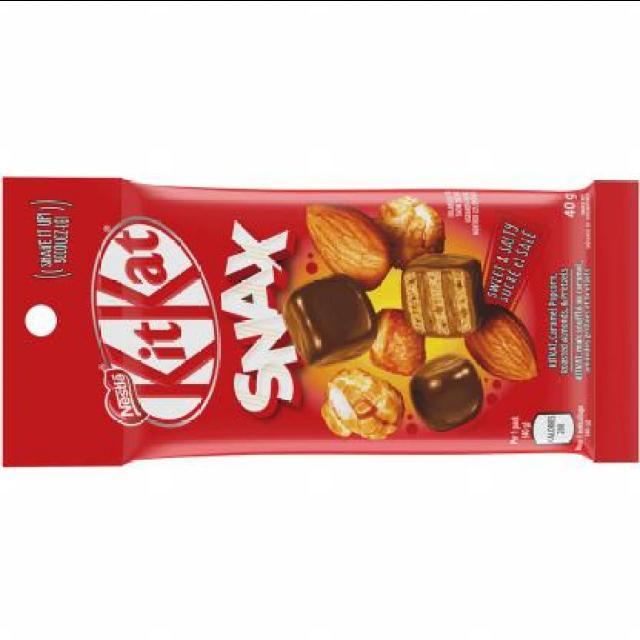Merendine: (73, 177, 639, 465)
